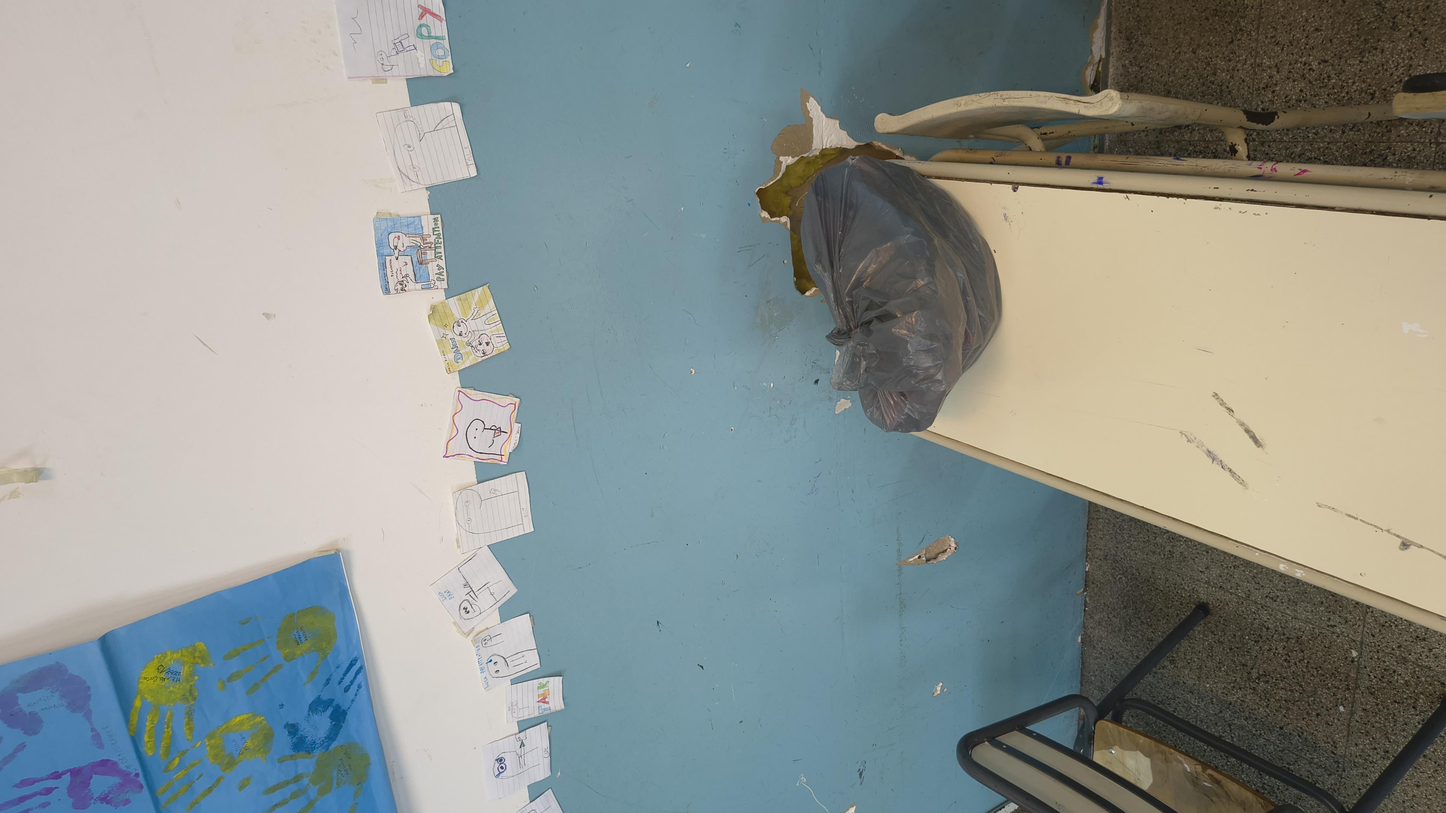Garbage: (596, 435, 1287, 597)
